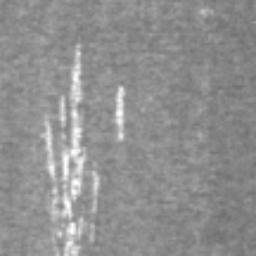White rust: (60, 49, 86, 219), (40, 119, 56, 181), (64, 217, 84, 256), (114, 86, 125, 140), (92, 170, 100, 195), (59, 96, 66, 122)
